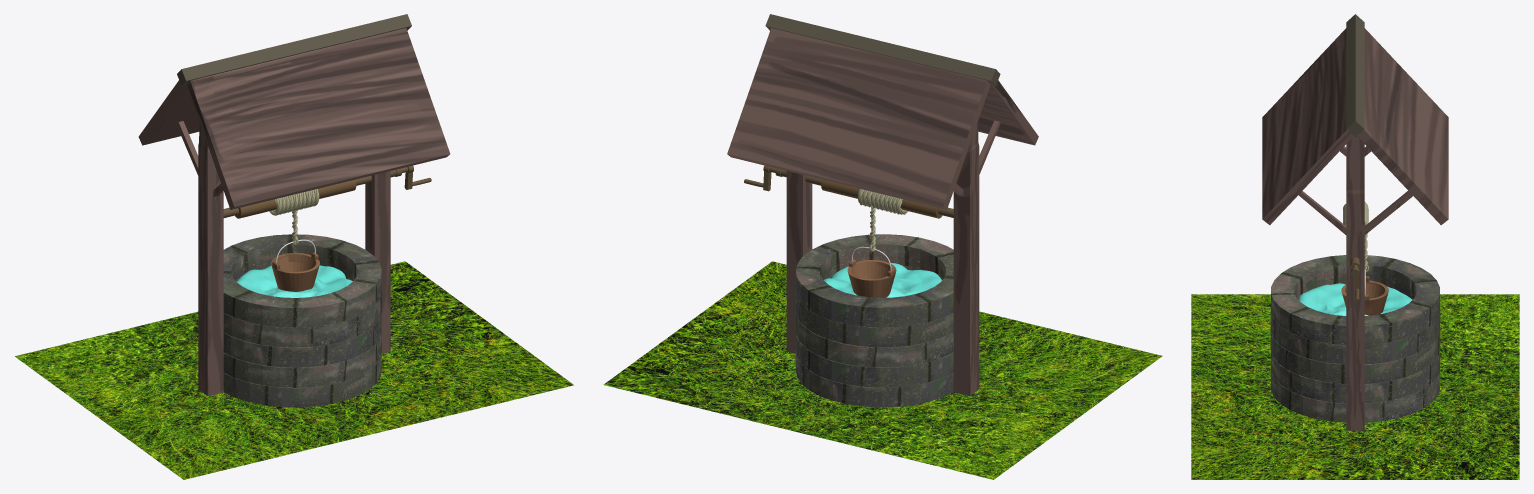
File: StoneWell.fbx
3 views of the same model, side by side, from view 1: azimuth 30°, elevation 25°; view 2: azimuth 150°, elevation 25°; view 3: azimuth 270°, elevation 25° (orthographic). The views are drawn at different scales.
Parts seen in each view (by area): view 1: boldizsar-bednarik-AwwdfImDUeQ-unsplash_boldizsar-bednarik-, Cube.002_Roof_0.001, Cube.001_Wood Sides_0.001, Cylinder.003_Brick_0.001, Cube.003_Top_0.001, Cylinder.005_Brick_0.001, Cylinder.006_Brick_0.001, Cylinder.004_Brick_0.001, Cylinder_Brick_0.001, Cube_Water_0.001, Cylinder.007_Bucket_0.001, Cylinder.002_Rod_0.001 (+1 smaller); view 2: boldizsar-bednarik-AwwdfImDUeQ-unsplash_boldizsar-bednarik-, Cube.002_Roof_0.001, Cube.001_Wood Sides_0.001, Cylinder.003_Brick_0.001, Cube.003_Top_0.001, Cylinder.005_Brick_0.001, Cylinder.006_Brick_0.001, Cylinder.004_Brick_0.001, Cylinder_Brick_0.001, Cube_Water_0.001, Cylinder.007_Bucket_0.001, Cylinder.002_Rod_0.001 (+1 smaller); view 3: boldizsar-bednarik-AwwdfImDUeQ-unsplash_boldizsar-bednarik-, Cube.002_Roof_0.001, Cylinder.003_Brick_0.001, Cube.001_Wood Sides_0.001, Cylinder.004_Brick_0.001, Cylinder.005_Brick_0.001, Cylinder.006_Brick_0.001, Cylinder_Brick_0.001, Cube.003_Top_0.001, Cube_Water_0.001, Cylinder.007_Bucket_0.001.
Part boxes in pixels (x1,y1,x2,y2): boldizsar-bednarik-AwwdfImDUeQ-unsplash_boldizsar-bednarik-: [15, 261, 573, 479]; Cube.002_Roof_0.001: [138, 28, 450, 209]; Cube.001_Wood Sides_0.001: [176, 121, 390, 396]; Cylinder.003_Brick_0.001: [223, 234, 381, 327]; Cube.003_Top_0.001: [177, 14, 411, 85]; Cylinder.005_Brick_0.001: [223, 266, 381, 347]; Cylinder.006_Brick_0.001: [223, 330, 381, 387]; Cylinder.004_Brick_0.001: [223, 313, 381, 367]; Cylinder_Brick_0.001: [223, 352, 381, 407]; Cube_Water_0.001: [237, 265, 352, 297]; Cylinder.007_Bucket_0.001: [271, 252, 319, 291]; Cylinder.002_Rod_0.001: [235, 180, 356, 218]; boldizsar-bednarik-AwwdfImDUeQ-unsplash_boldizsar-bednarik-: [603, 261, 1162, 479]; Cube.002_Roof_0.001: [727, 28, 1038, 209]; Cube.001_Wood Sides_0.001: [786, 120, 1000, 395]; Cylinder.003_Brick_0.001: [795, 234, 953, 327]; Cube.003_Top_0.001: [765, 14, 1000, 85]; Cylinder.005_Brick_0.001: [796, 265, 953, 347]; Cylinder.006_Brick_0.001: [795, 329, 953, 387]; Cylinder.004_Brick_0.001: [796, 313, 953, 367]; Cylinder_Brick_0.001: [795, 350, 953, 407]; Cube_Water_0.001: [823, 263, 941, 297]; Cylinder.007_Bucket_0.001: [847, 259, 896, 297]; Cylinder.002_Rod_0.001: [821, 179, 942, 218]; boldizsar-bednarik-AwwdfImDUeQ-unsplash_boldizsar-bednarik-: [1191, 294, 1519, 479]; Cube.002_Roof_0.001: [1262, 28, 1448, 224]; Cylinder.003_Brick_0.001: [1271, 255, 1439, 345]; Cube.001_Wood Sides_0.001: [1298, 136, 1412, 430]; Cylinder.004_Brick_0.001: [1270, 328, 1440, 383]; Cylinder.005_Brick_0.001: [1270, 284, 1440, 364]; Cylinder.006_Brick_0.001: [1271, 350, 1439, 403]; Cylinder_Brick_0.001: [1271, 372, 1439, 422]; Cube.003_Top_0.001: [1346, 14, 1364, 136]; Cube_Water_0.001: [1298, 283, 1412, 315]; Cylinder.007_Bucket_0.001: [1341, 276, 1388, 315].
Bounding box in the file's own units: 2211 × 1782 × 1658.
